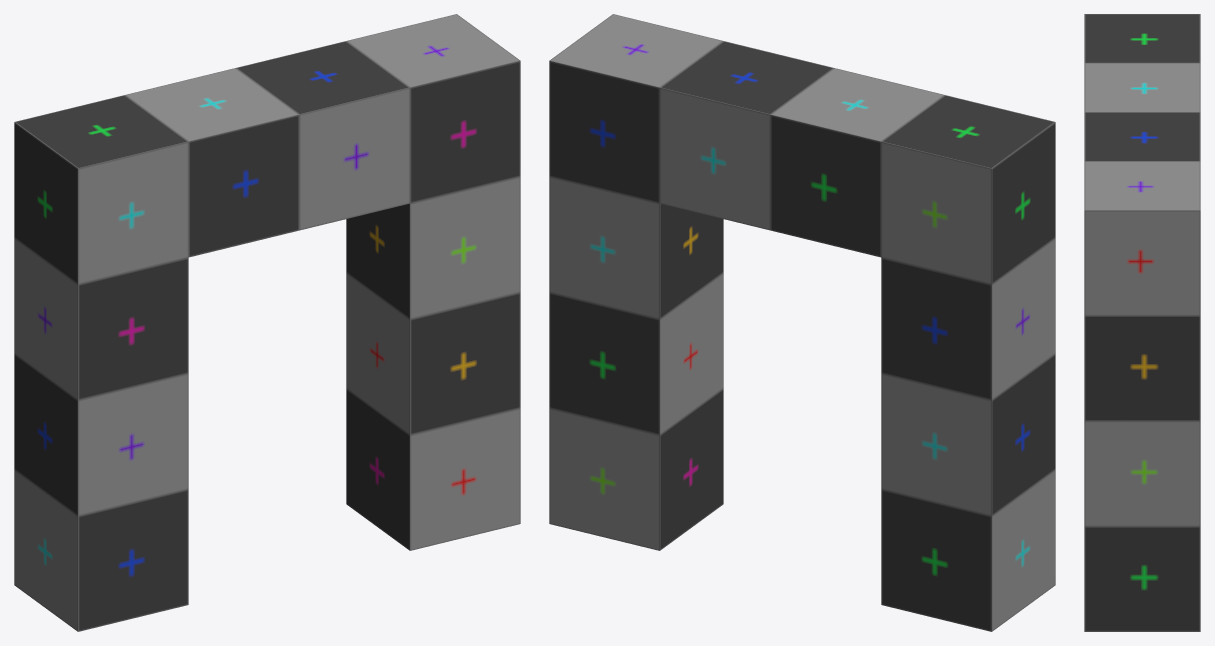
The model's file is Modular Wall Doorway.glb.
The picture shows the model from 3 angles, left to right: view 1: azimuth 30°, elevation 25°; view 2: azimuth 150°, elevation 25°; view 3: azimuth 270°, elevation 25°; orthographic projection. The views are drawn at different scales.
Parts seen in each view (by area): view 1: Modular Wall Doorway; view 2: Modular Wall Doorway; view 3: Modular Wall Doorway.
Part boxes in pixels (x1,y1,x2,y2): Modular Wall Doorway: (14,14,520,631); Modular Wall Doorway: (549,14,1055,631); Modular Wall Doorway: (1084,14,1200,631).
Bounding box in the file's own units: 4 × 4 × 1.
Materials: 1 (1 with a texture image).
